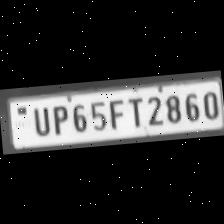0: (200, 88, 222, 120)
2: (142, 92, 164, 126)
5: (86, 98, 108, 132)
6: (180, 88, 201, 122), (68, 100, 88, 132)
8: (161, 91, 183, 125)
F: (106, 96, 127, 129)
P: (48, 101, 70, 134)
T: (124, 94, 144, 128)
U: (28, 103, 53, 136)
